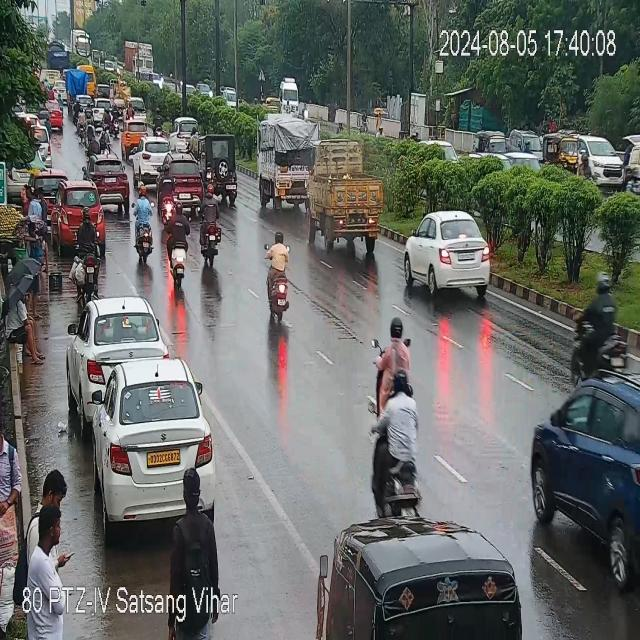2-wheelers: (368, 376, 424, 513), (572, 275, 626, 350), (374, 316, 411, 395), (74, 206, 104, 300), (265, 232, 293, 324), (166, 204, 187, 295), (200, 184, 222, 265), (133, 187, 156, 262), (64, 58, 93, 108), (80, 121, 112, 157), (154, 168, 174, 222), (47, 107, 67, 135)
auto: (320, 509, 526, 640), (542, 132, 586, 190)
car: (523, 365, 639, 547), (89, 365, 208, 529), (70, 295, 162, 392), (403, 208, 496, 294), (199, 124, 245, 198), (54, 178, 107, 240), (90, 150, 127, 220), (588, 129, 627, 180), (134, 139, 171, 183), (172, 150, 204, 199), (30, 162, 69, 188), (174, 119, 200, 152)
pedestrian: (168, 473, 222, 640), (20, 473, 70, 606), (30, 510, 64, 640), (0, 426, 15, 640), (8, 293, 41, 369), (39, 188, 53, 272), (25, 219, 40, 276), (22, 184, 39, 223)
truck: (313, 137, 395, 253), (258, 116, 317, 208)
